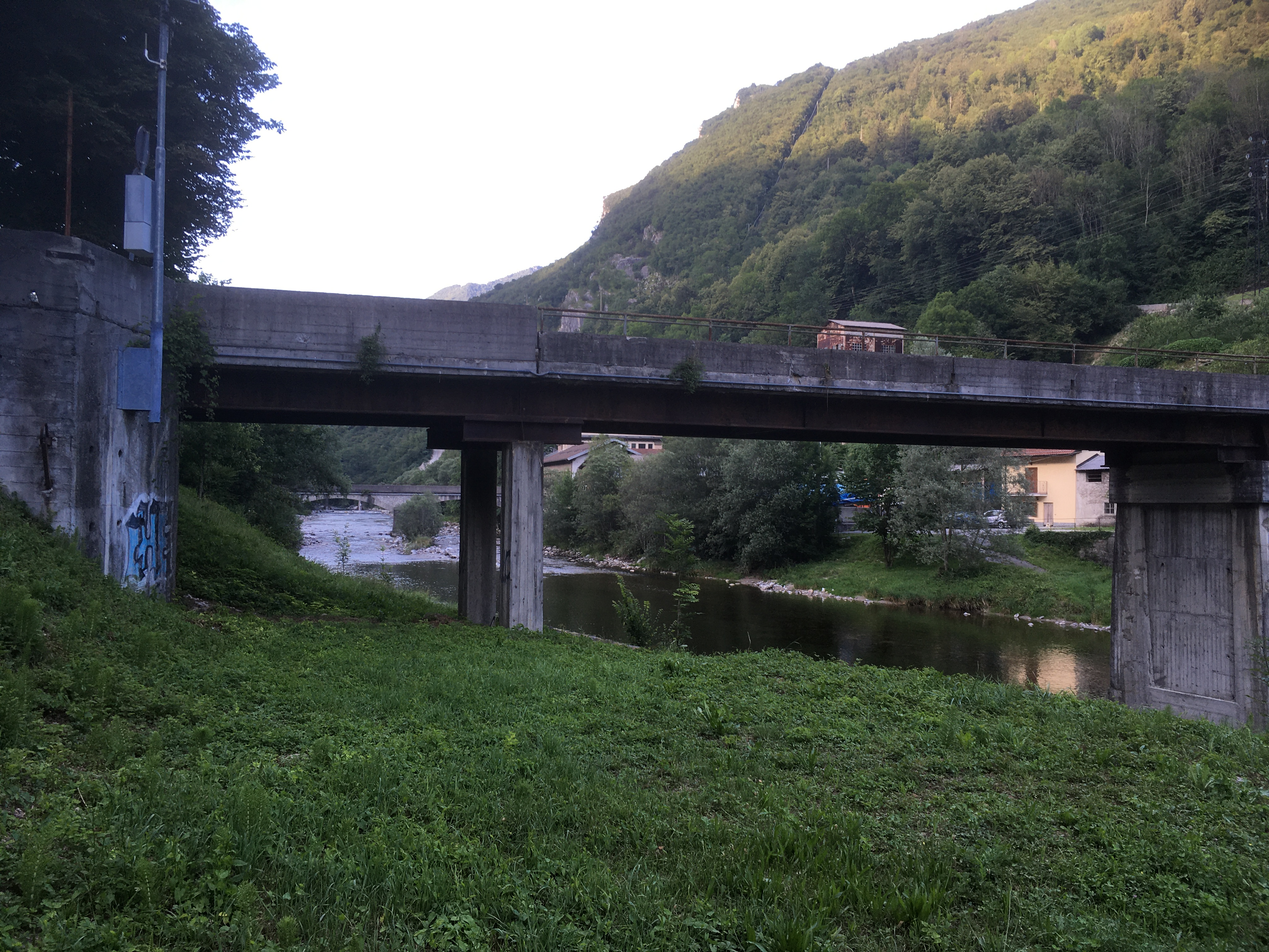Crack: (510, 440, 547, 472)
Leaching: (68, 323, 181, 604), (1225, 500, 1264, 699), (502, 442, 545, 610), (1111, 502, 1147, 687), (1231, 462, 1268, 501), (1108, 467, 1134, 502)
Spalling: (1113, 509, 1142, 682)
